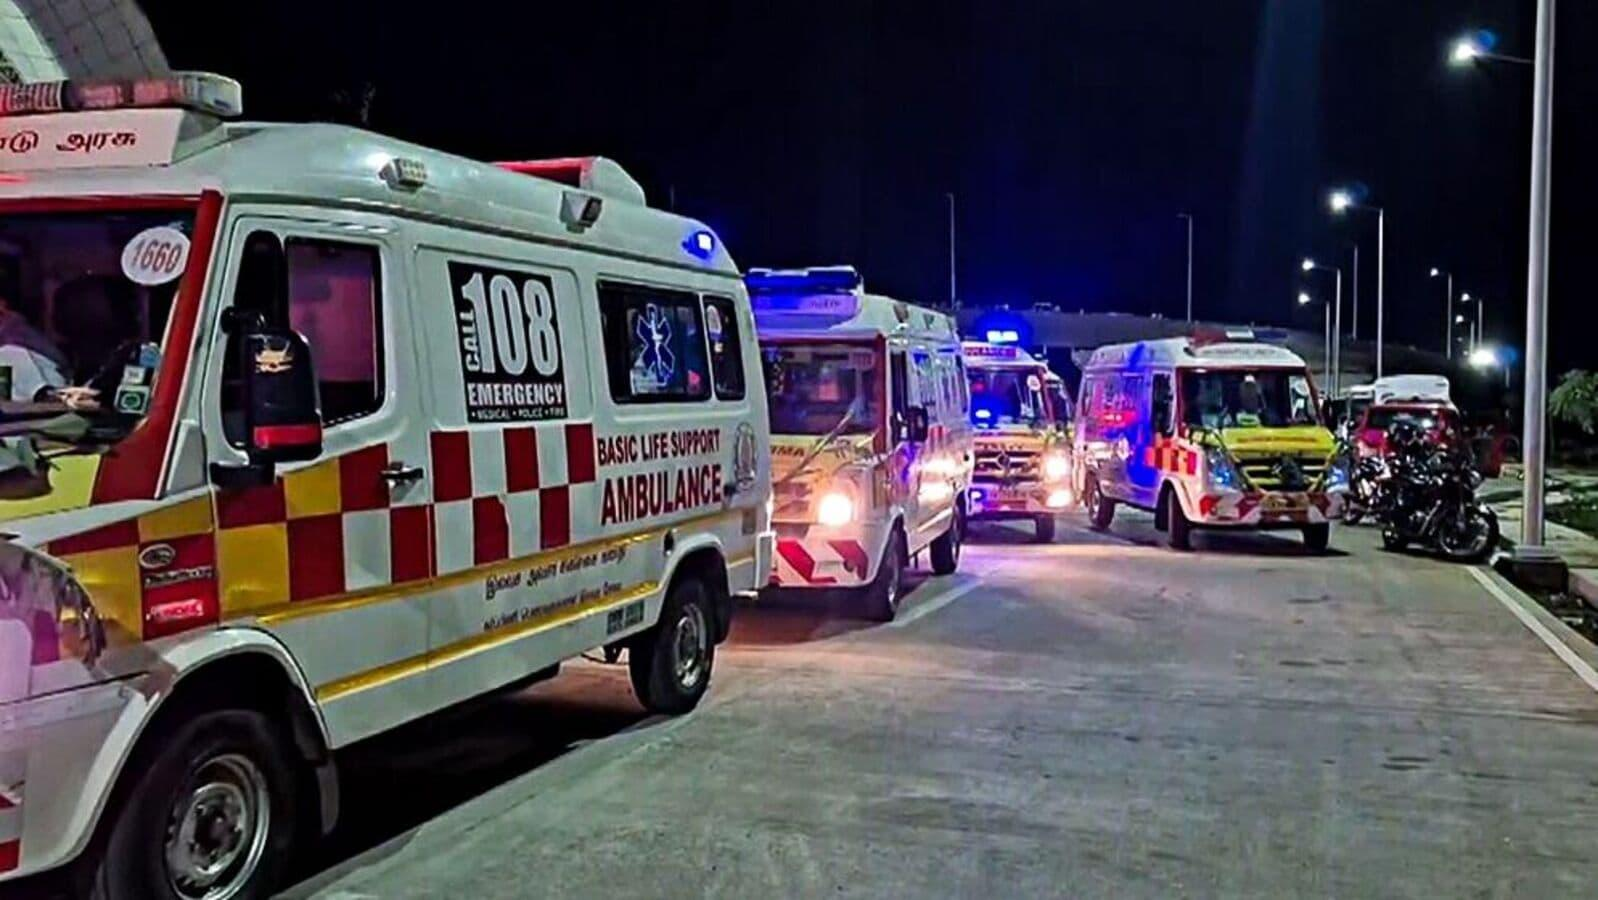ambulance: (0, 70, 752, 869), (746, 260, 966, 631), (1105, 331, 1344, 572), (974, 337, 1085, 547)
